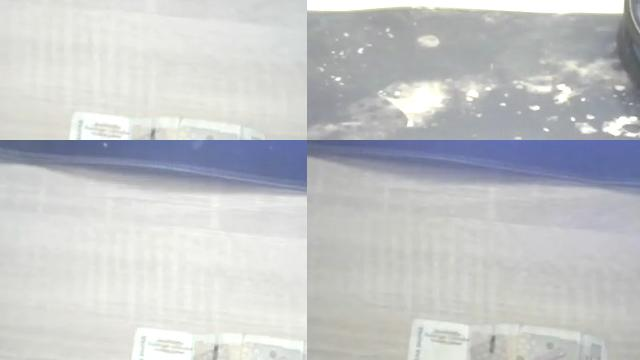10leva: (405, 319, 607, 360)
